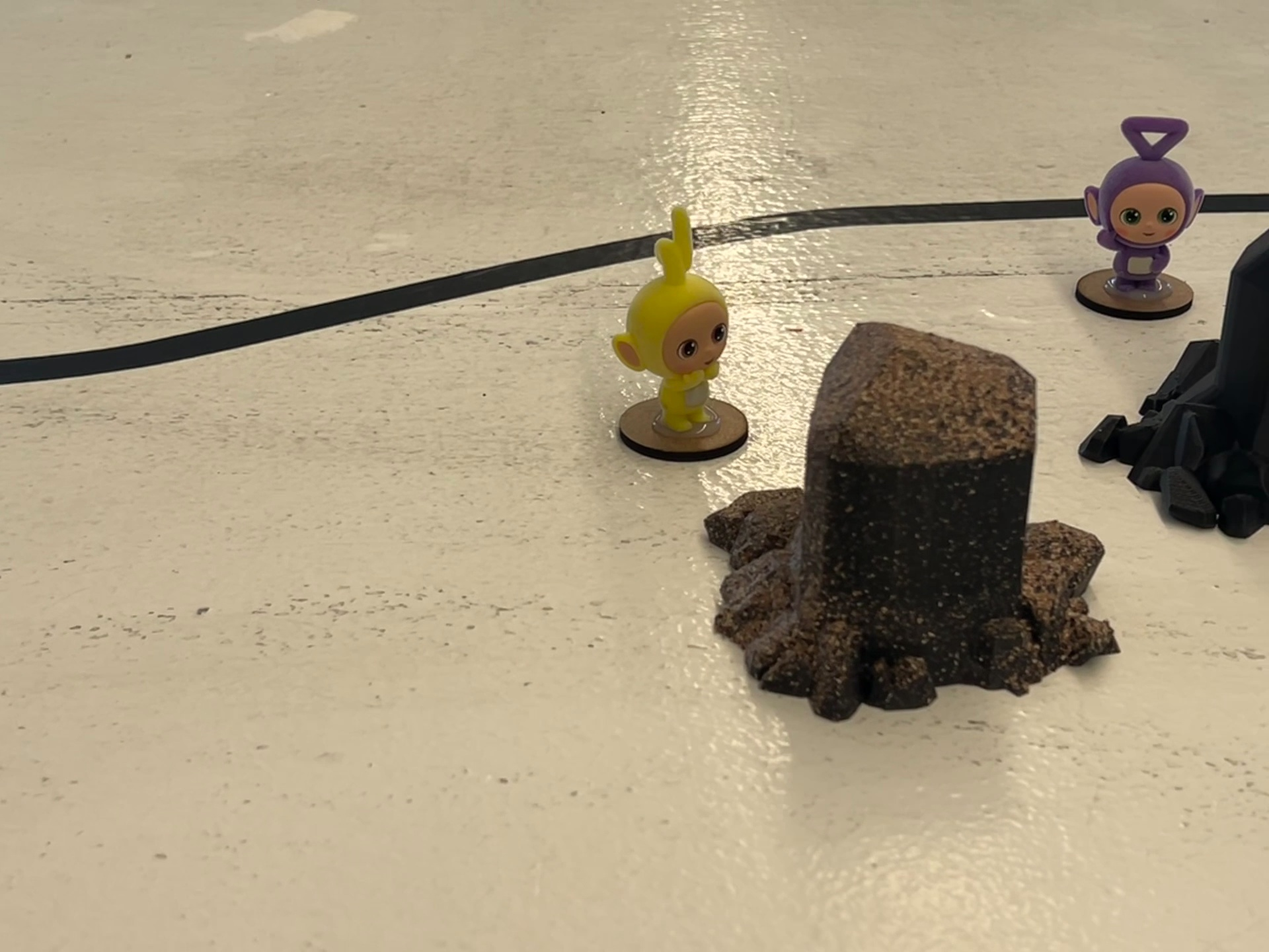teletubby: (611, 207, 730, 432), (1083, 116, 1204, 293)
